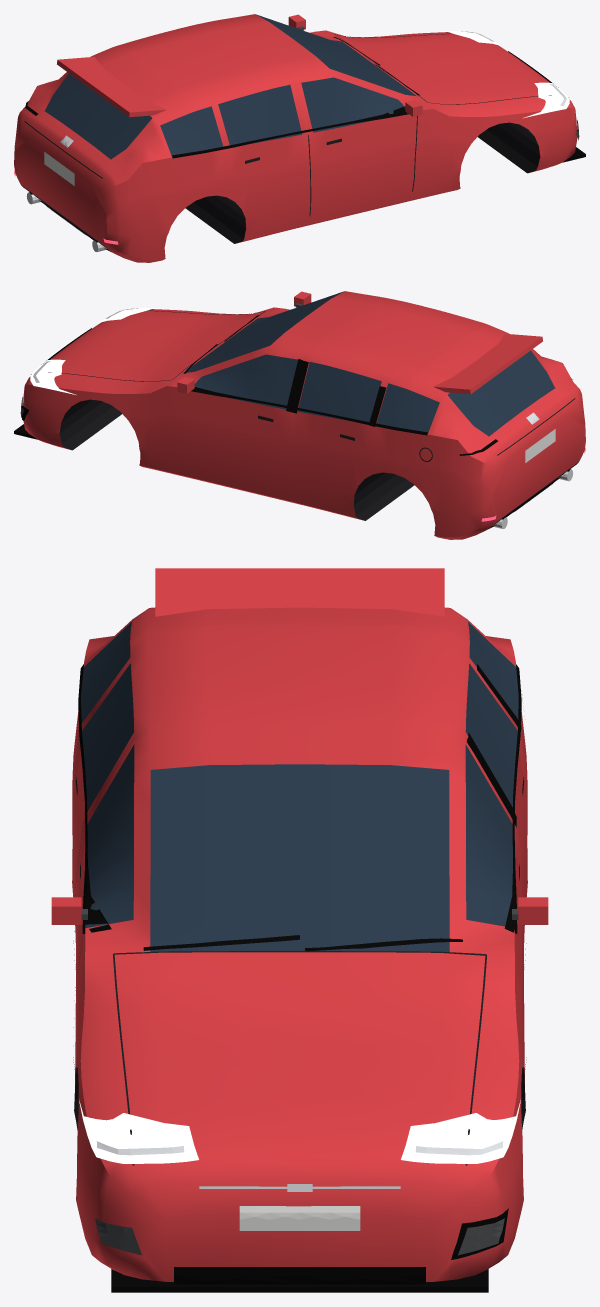
Rendered from ford-focus-st-mk4.glb.
The picture shows the model from 3 angles, top to bottom: view 1: azimuth 30°, elevation 25°; view 2: azimuth 150°, elevation 25°; view 3: azimuth 270°, elevation 25°; orthographic projection. The views are drawn at different scales.
Parts seen in each view (by area): view 1: ford-focus-st-mk4; view 2: ford-focus-st-mk4; view 3: ford-focus-st-mk4.
Part boxes in pixels (box(x1,y1,x2,y2)): ford-focus-st-mk4: box(14, 14, 585, 262); ford-focus-st-mk4: box(14, 291, 585, 539); ford-focus-st-mk4: box(51, 568, 548, 1292).
Size of the model in its own units: 4.4 by 1.31 by 1.97.
